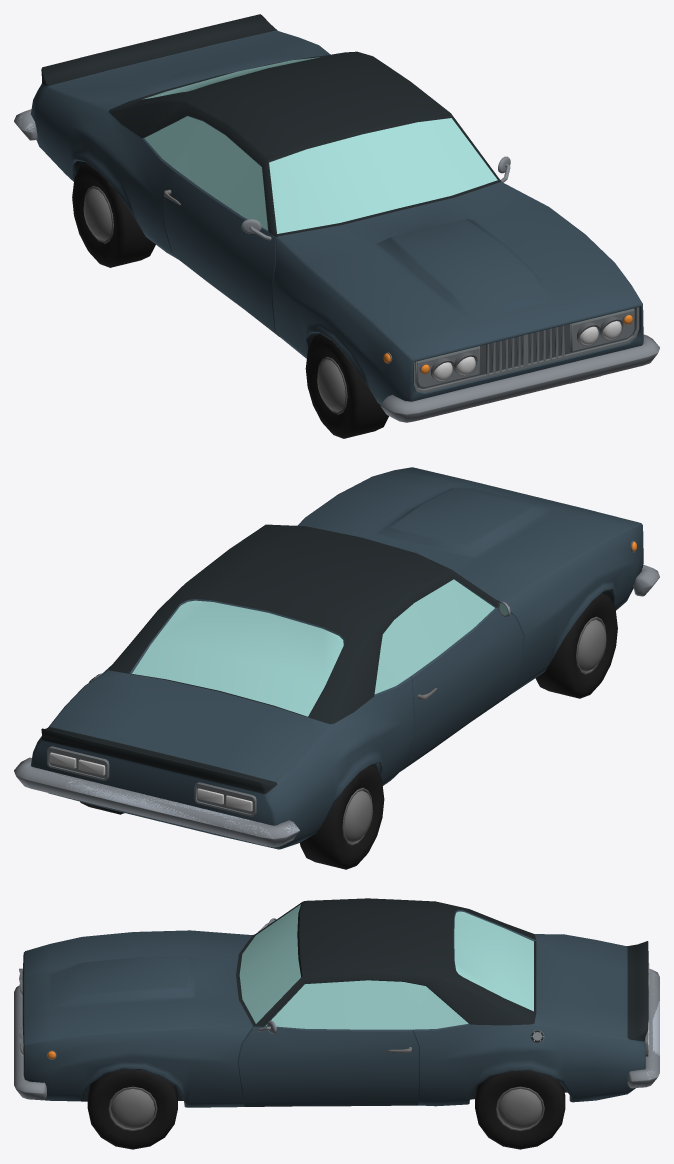
File: SM_Vehicles_03_V1.fbx
3 renders of one model, top to bottom at view 1: azimuth 30°, elevation 25°; view 2: azimuth 150°, elevation 25°; view 3: azimuth 270°, elevation 25°, orthographic. The views are drawn at different scales.
Visible parts, largest first — view 1: SM_Vehicles_03_V1, SM_Vehicles_03_FR, SM_Vehicles_03_RR; view 2: SM_Vehicles_03_V1, SM_Vehicles_03_RR, SM_Vehicles_03_FR, SM_Vehicles_03_V2; view 3: SM_Vehicles_03_V1, SM_Vehicles_03_FL, SM_Vehicles_03_RL.
Boxes of the visible parts, <box> form: SM_Vehicles_03_V1: <box>14,14,659,422</box>; SM_Vehicles_03_FR: <box>305,333,388,438</box>; SM_Vehicles_03_RR: <box>72,163,155,267</box>; SM_Vehicles_03_V1: <box>14,467,659,849</box>; SM_Vehicles_03_RR: <box>300,765,384,869</box>; SM_Vehicles_03_FR: <box>535,593,617,698</box>; SM_Vehicles_03_V2: <box>41,541,636,838</box>; SM_Vehicles_03_V1: <box>14,898,659,1107</box>; SM_Vehicles_03_FL: <box>87,1069,177,1149</box>; SM_Vehicles_03_RL: <box>475,1070,565,1149</box>.
Bounding box in the file's own units: 2.02 × 1.42 × 4.89.
